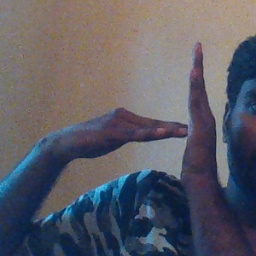Z: (115, 38, 224, 194)
